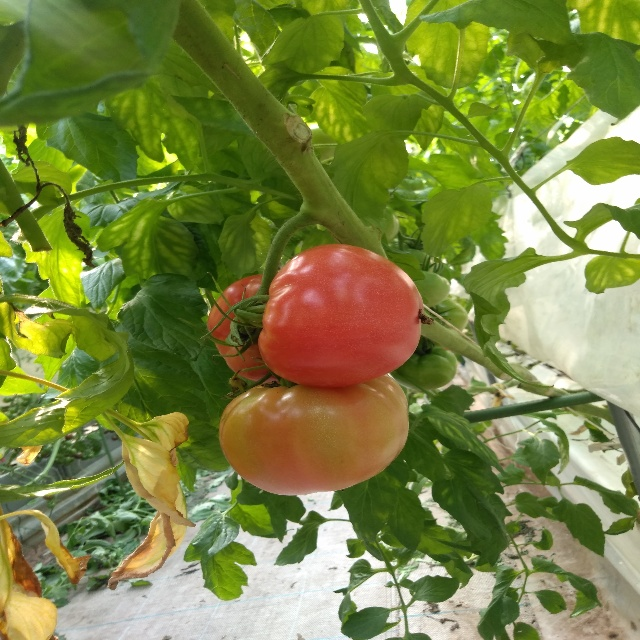b_fully_ripened: (258, 243, 424, 388), (206, 274, 301, 385)
b_half_ripened: (220, 374, 409, 496)
